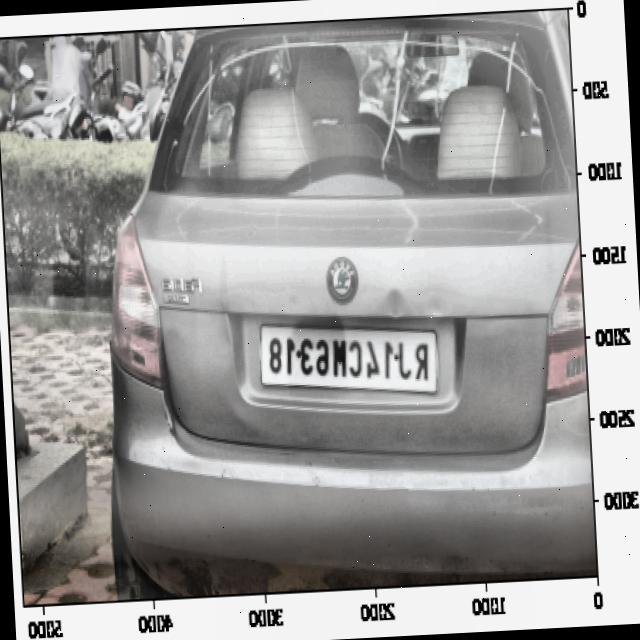license_plate: (263, 322, 437, 397)
